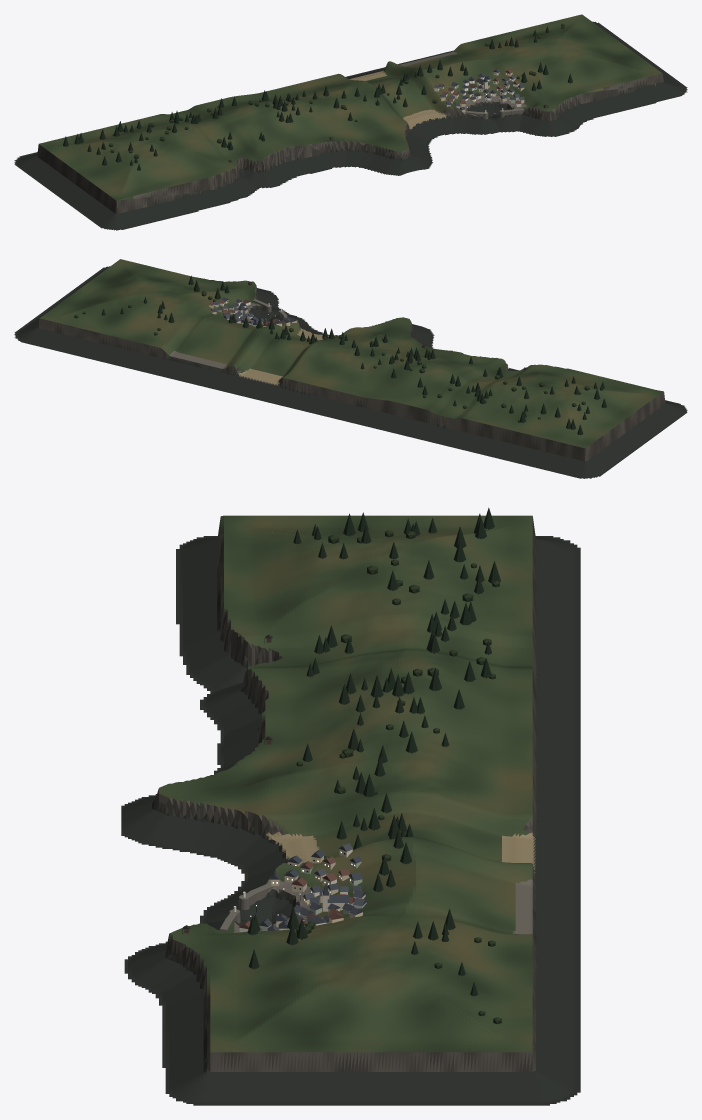
File: merrow_bay.fbx
3 views of the same model, one above another, from view 1: azimuth 30°, elevation 25°; view 2: azimuth 150°, elevation 25°; view 3: azimuth 270°, elevation 25° (orthographic). The views are drawn at different scales.
Visible parts, largest first — view 1: Terrain, Trees, Town; view 2: Terrain, Trees, Town; view 3: Terrain, Trees, Town.
Boxes of the visible parts, x1,y1,x2,y2 form: Terrain: (14,14,687,230); Trees: (63,23,572,170); Town: (434,68,524,116); Terrain: (14,259,687,478); Trees: (74,275,606,435); Town: (209,297,296,327); Terrain: (121,515,580,1105); Trees: (247,507,501,1024); Town: (239,843,367,932).
Size of the model in its own units: 491 by 33.83 by 168.
